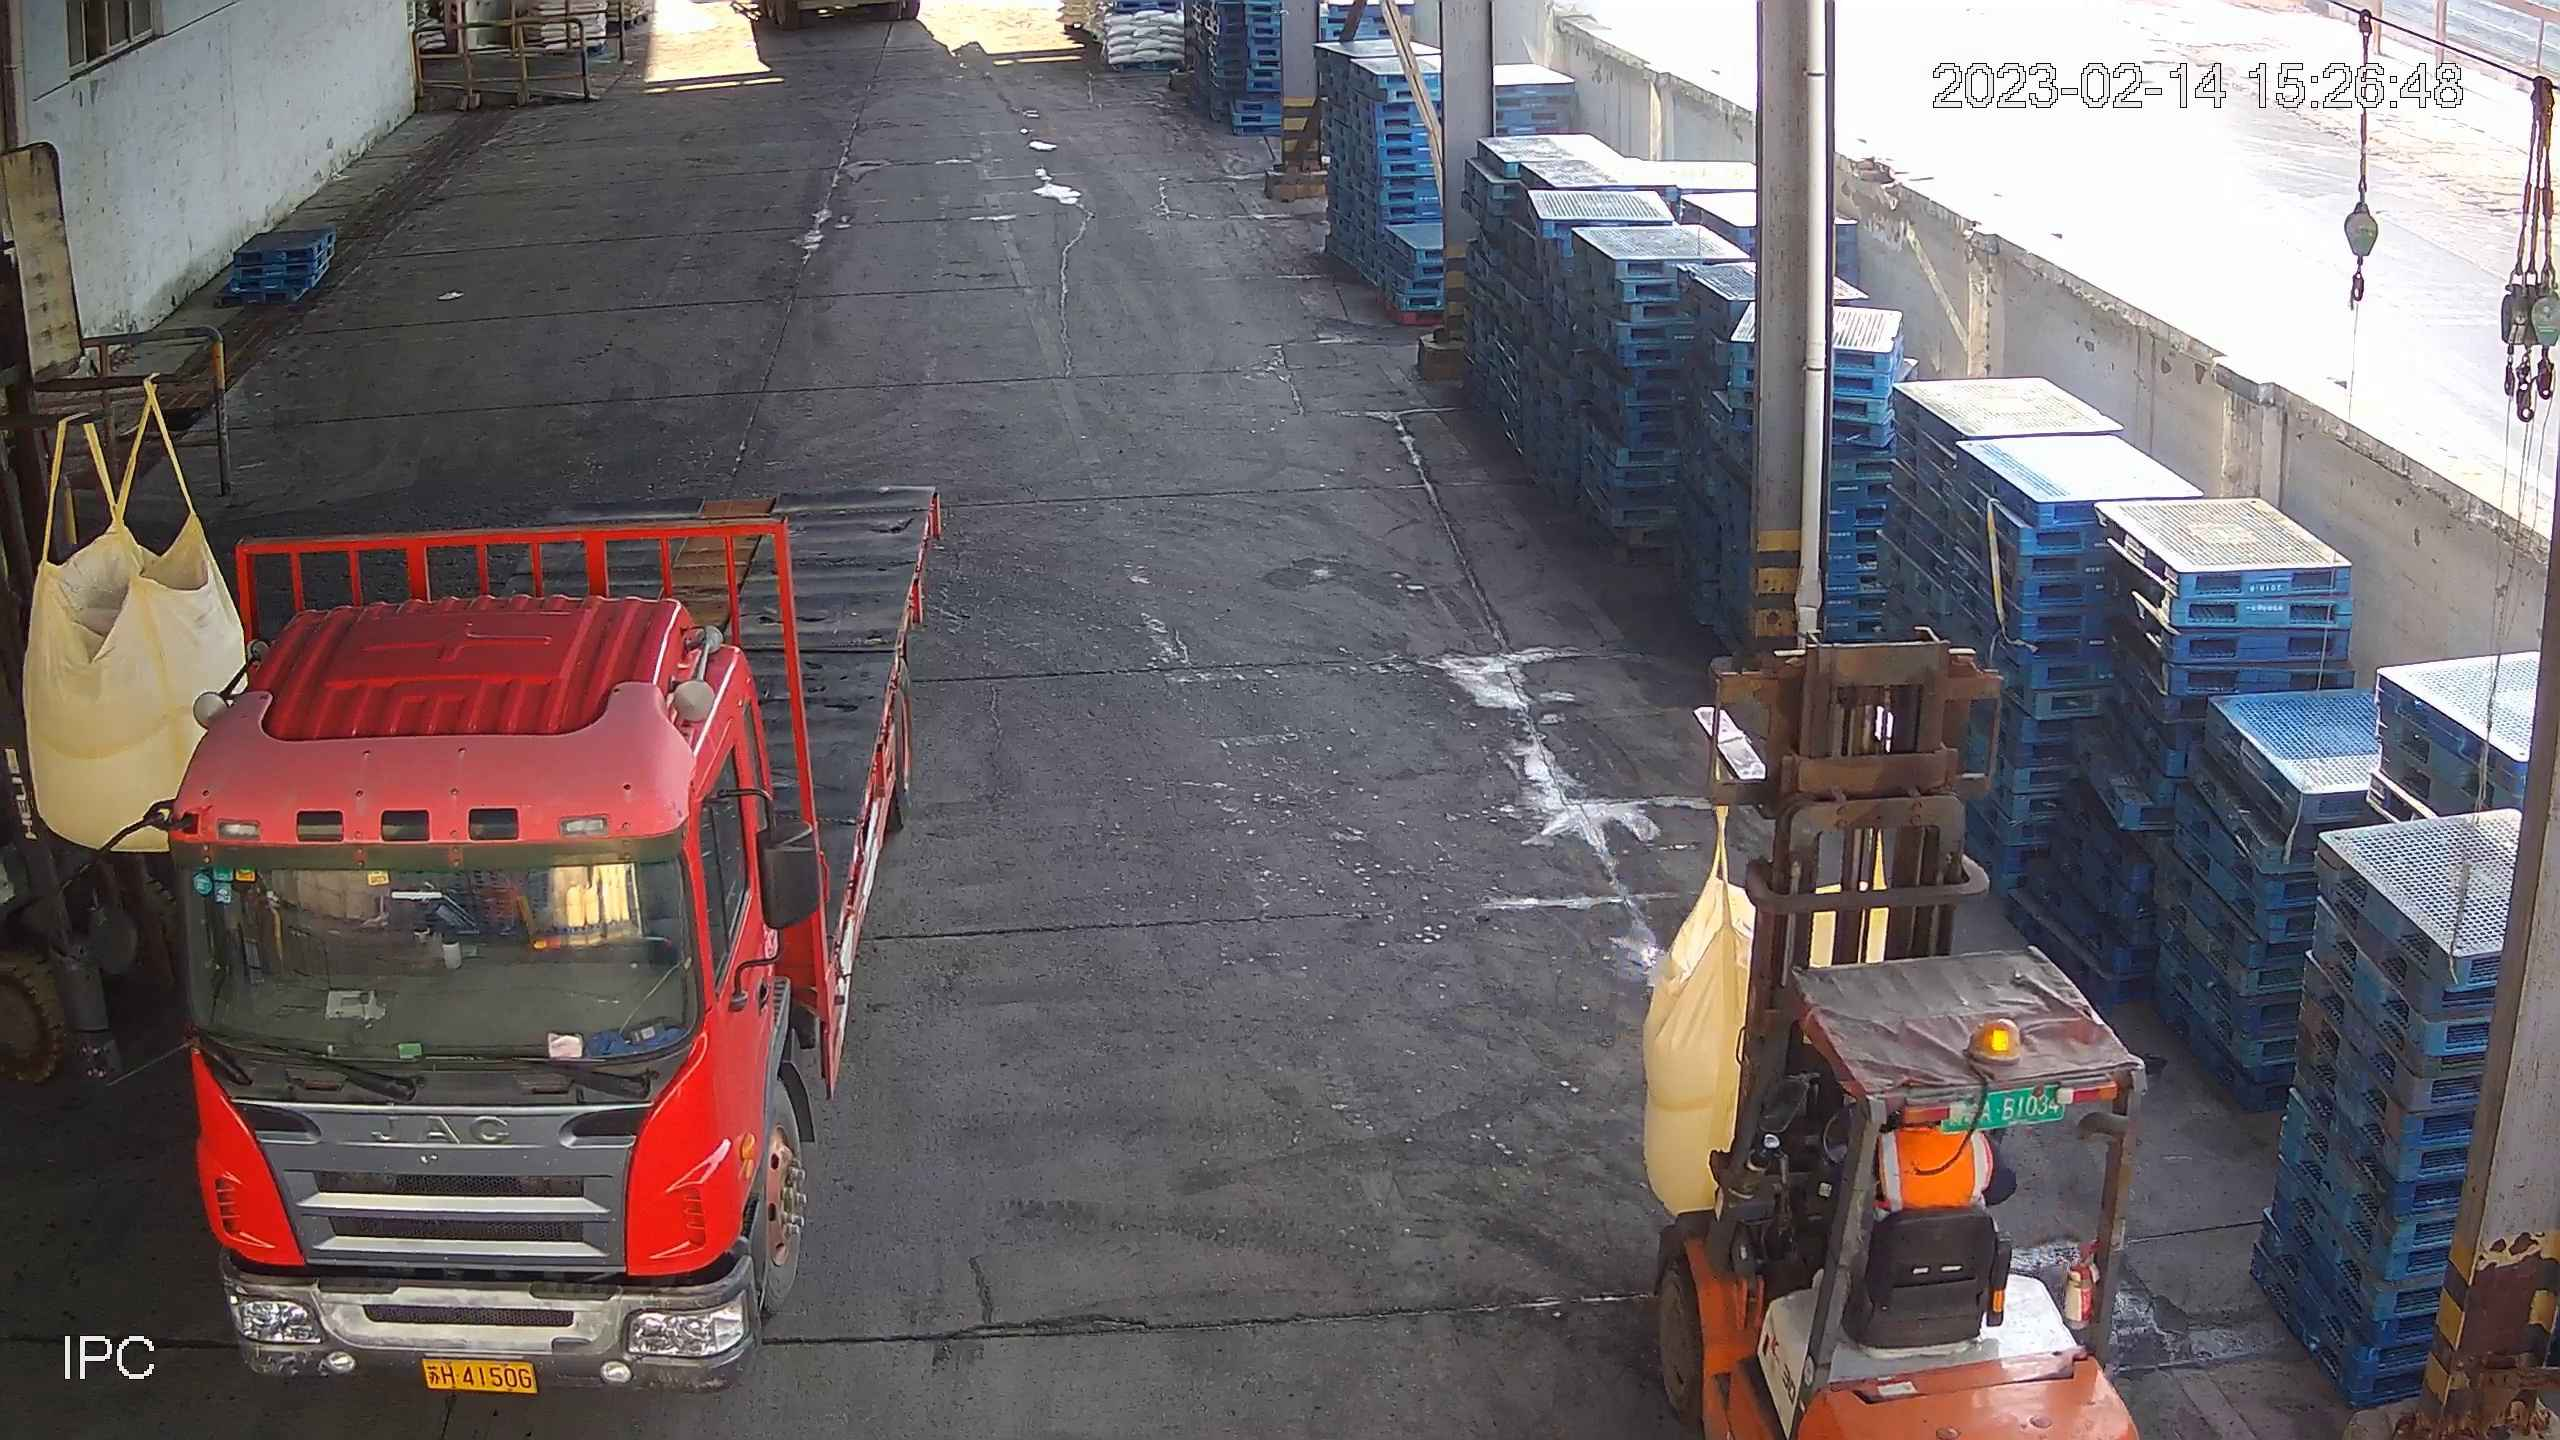truck: (155, 484, 951, 1403)
